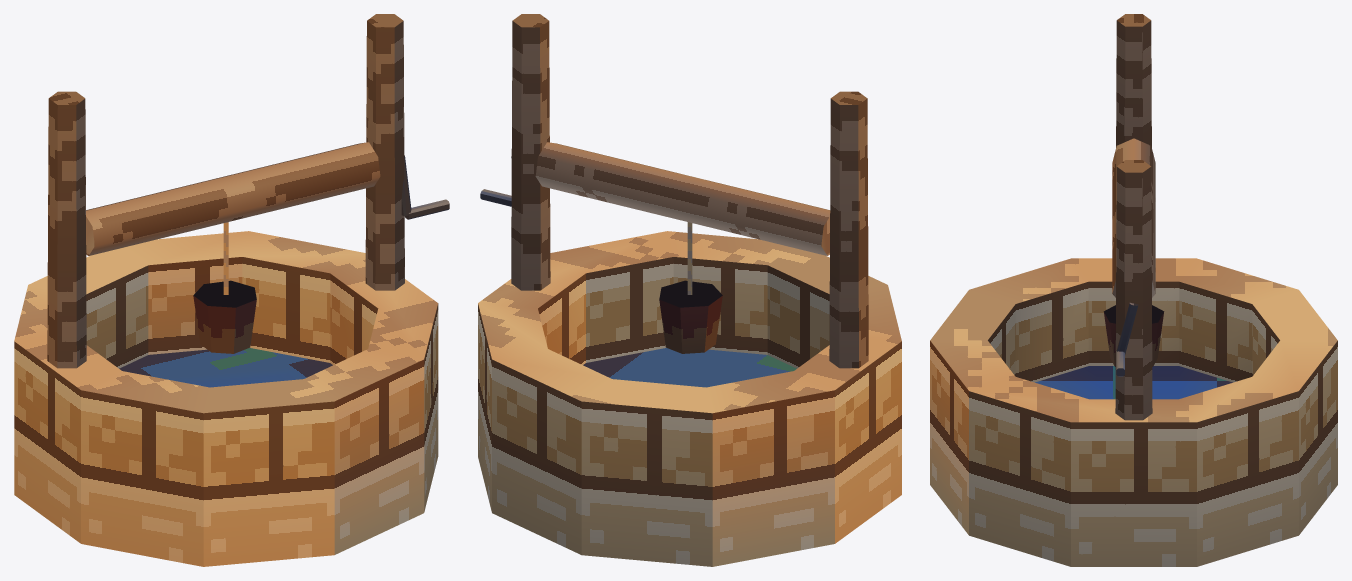
Rendered from wprop.well__open.glb.
The picture shows the model from 3 angles, left to right: view 1: azimuth 30°, elevation 25°; view 2: azimuth 150°, elevation 25°; view 3: azimuth 270°, elevation 25°; orthographic projection. The views are drawn at different scales.
Parts seen in each view (by area): view 1: kit_curb, kit_posts, kit_drum, kit_water, kit_bucket, kit_crank; view 2: kit_curb, kit_posts, kit_drum, kit_water, kit_bucket; view 3: kit_curb, kit_posts, kit_water, kit_drum, kit_bucket, kit_crank.
Part boxes in pixels (left/top/right/bottom): kit_curb: left=14, top=231, right=438, bottom=566; kit_posts: left=47, top=14, right=404, bottom=368; kit_drum: left=86, top=142, right=380, bottom=255; kit_water: left=119, top=348, right=332, bottom=387; kit_bucket: left=193, top=280, right=256, bottom=353; kit_crank: left=401, top=155, right=449, bottom=219; kit_curb: left=478, top=231, right=901, bottom=566; kit_posts: left=511, top=14, right=868, bottom=368; kit_drum: left=535, top=142, right=830, bottom=255; kit_water: left=583, top=348, right=796, bottom=387; kit_bucket: left=659, top=280, right=722, bottom=353; kit_curb: left=930, top=258, right=1337, bottom=566; kit_posts: left=1115, top=14, right=1152, bottom=420; kit_water: left=1035, top=366, right=1232, bottom=399; kit_drum: left=1112, top=138, right=1155, bottom=297; kit_bucket: left=1103, top=305, right=1164, bottom=366; kit_crank: left=1116, top=302, right=1138, bottom=376.
Size of the model in its own units: 1.92 by 1.95 by 1.84.
Materials: 10 (10 with a texture image).
